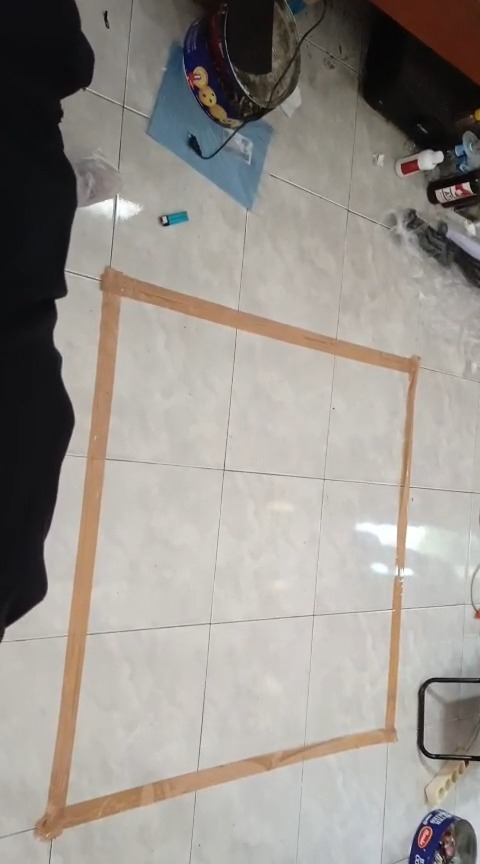floor marking: (36, 267, 419, 838)
